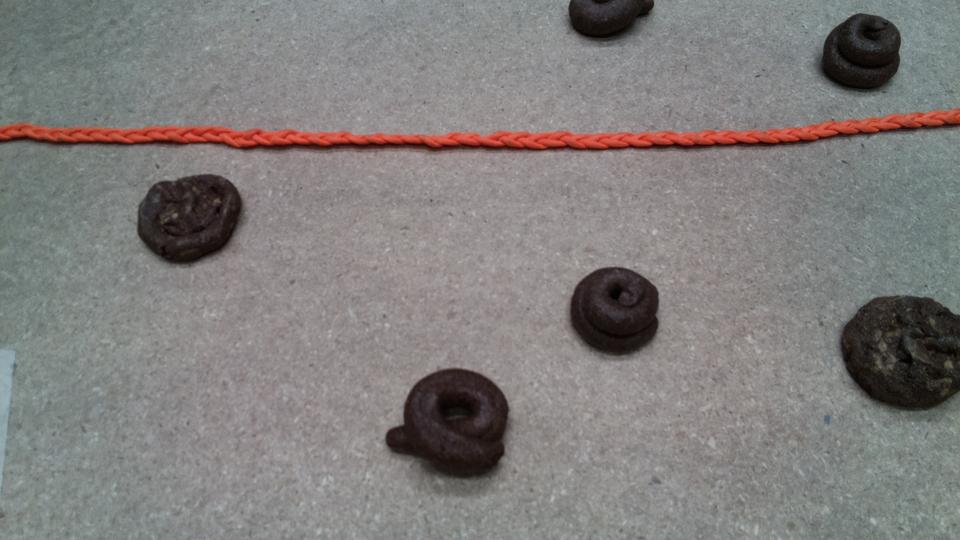poop: (385, 357, 516, 484), (840, 289, 960, 410), (133, 173, 250, 273), (567, 264, 667, 361), (818, 8, 904, 99)
rope: (1, 106, 960, 151)
